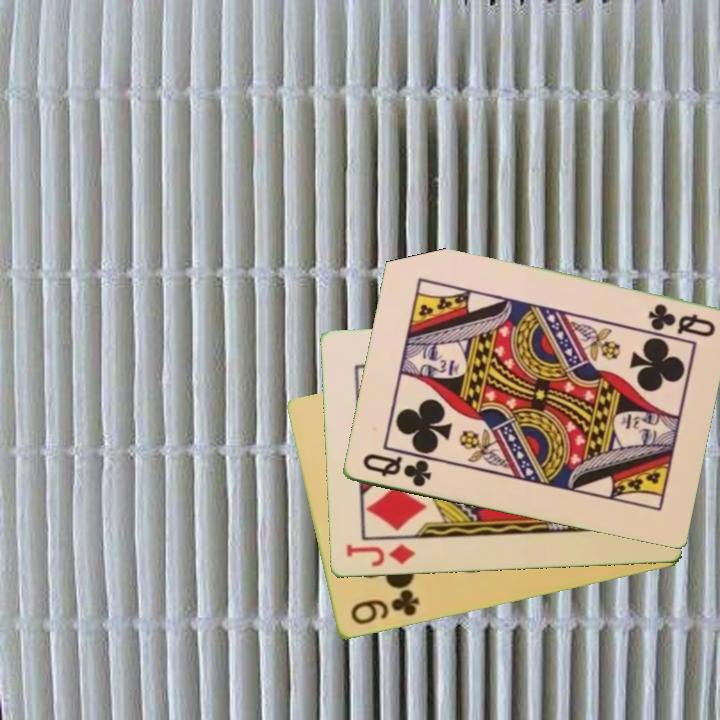9c: (346, 587, 422, 628)
Jd: (342, 540, 417, 570)
Qc: (644, 300, 718, 341), (359, 450, 434, 490)
